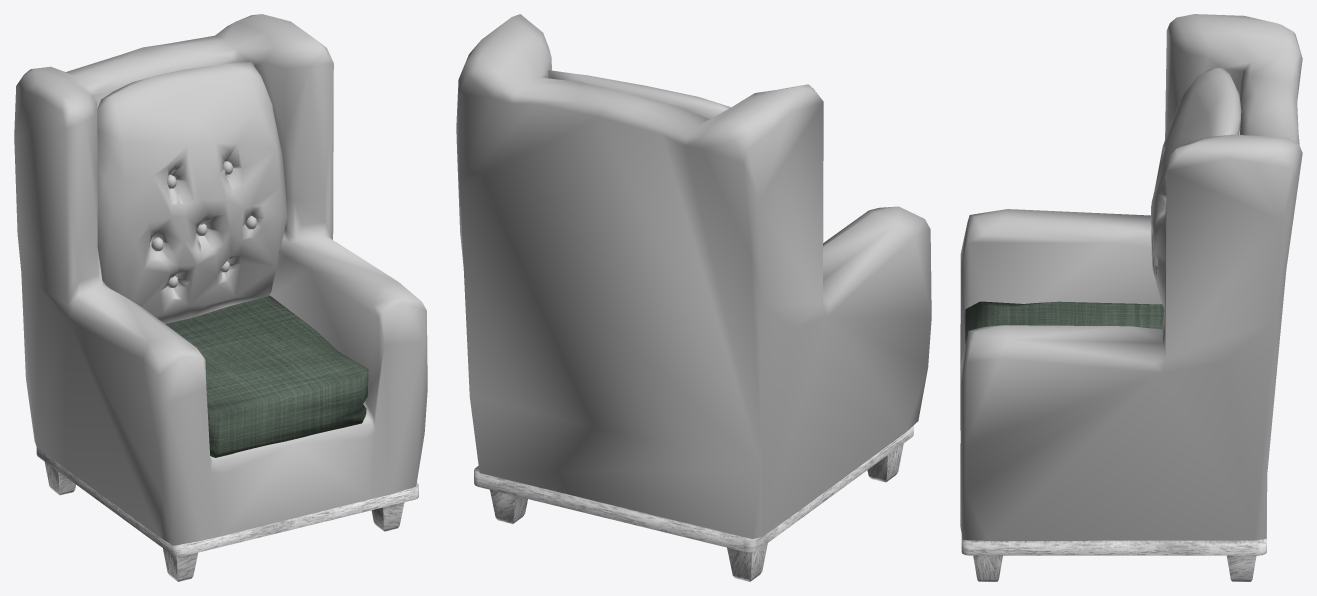
Rendered from Chair_type1.fbx.
3 renders of one model, left to right at view 1: azimuth 30°, elevation 25°; view 2: azimuth 150°, elevation 25°; view 3: azimuth 270°, elevation 25°, orthographic. The views are drawn at different scales.
Parts seen in each view (by area): view 1: Chair; view 2: Chair; view 3: Chair.
Part boxes in pixels (<box>): Chair: <box>14,14,427,581</box>; Chair: <box>456,14,931,581</box>; Chair: <box>960,14,1302,581</box>.
Size of the model in its own units: 1.01 by 1.48 by 1.03.
